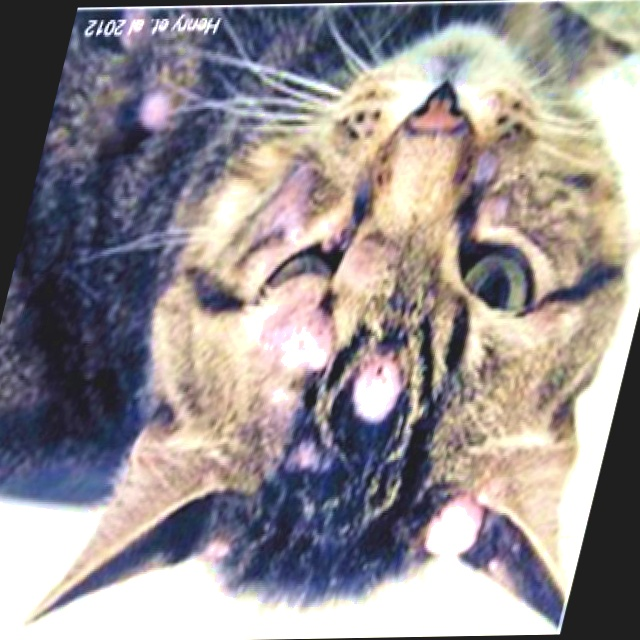lump_and_bump: (245, 299, 348, 373), (413, 497, 491, 560), (347, 362, 403, 421), (133, 87, 172, 133), (469, 150, 500, 184), (201, 538, 229, 559)
